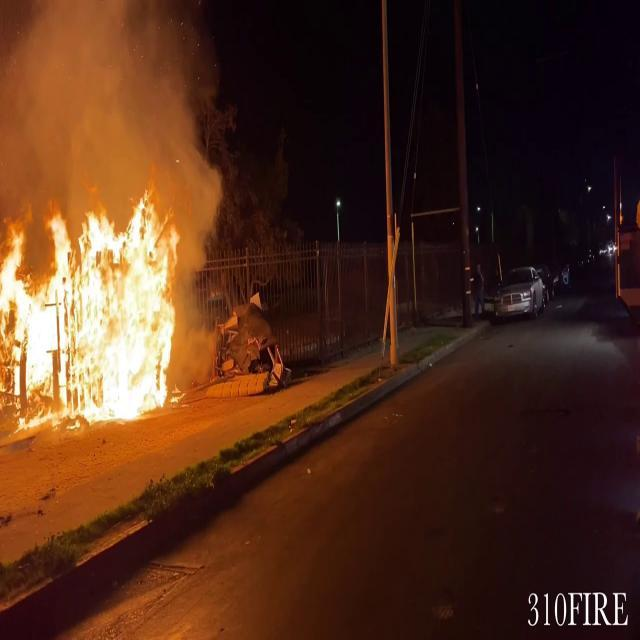Fire: (0, 180, 199, 428)
Smoke: (0, 0, 224, 210)
